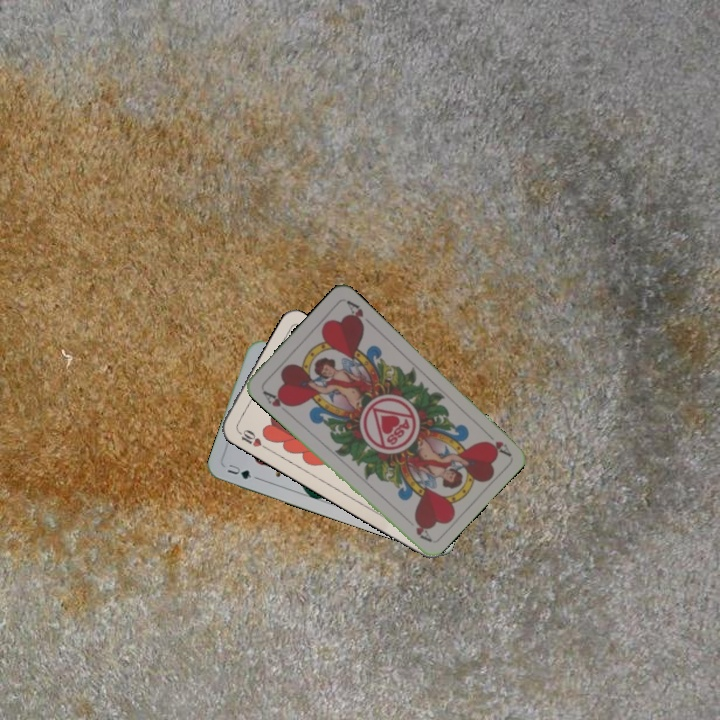GU: (223, 460, 254, 482)
H10: (233, 425, 270, 451)
HA: (480, 426, 513, 458), (259, 386, 294, 410)
